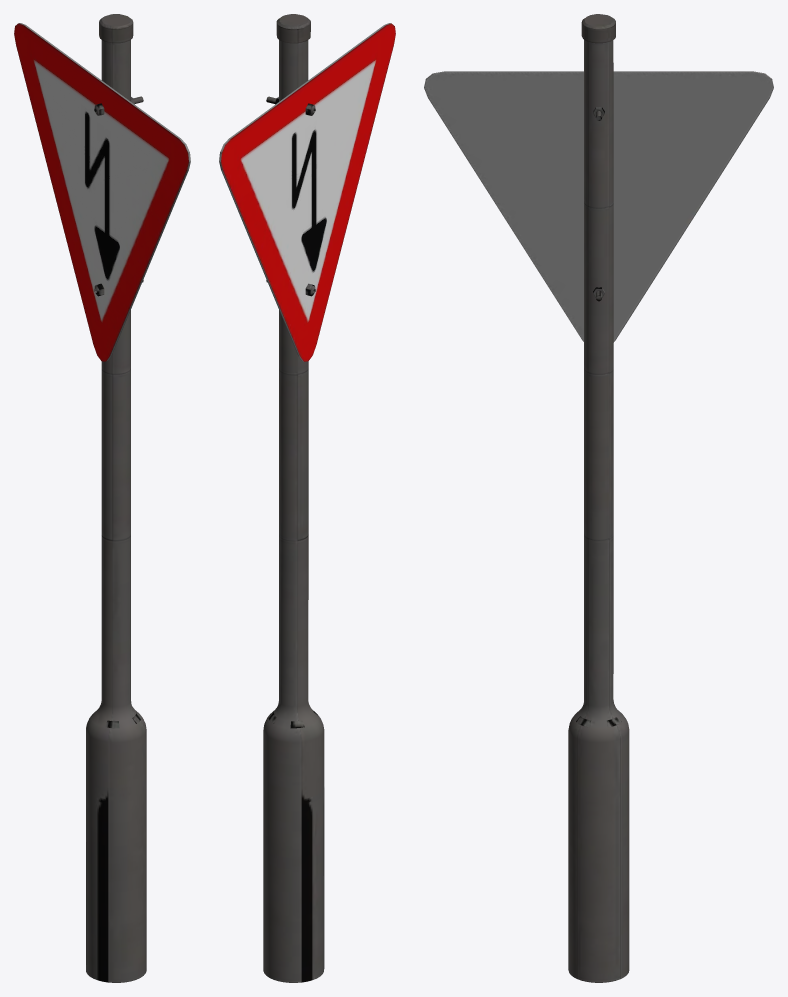
File: sign-down-trangle.glb
The picture shows the model from 3 angles, left to right: view 1: azimuth 30°, elevation 25°; view 2: azimuth 150°, elevation 25°; view 3: azimuth 270°, elevation 25°; orthographic projection.
Visible parts, largest first — view 1: down trangle; view 2: down trangle; view 3: down trangle.
Boxes of the visible parts, x1,y1,x2,y2 form: down trangle: [14, 14, 190, 982]; down trangle: [219, 14, 395, 982]; down trangle: [424, 14, 773, 982].
Size of the model in its own units: 18.29 by 315 by 105.
1 material, 1 textured.
